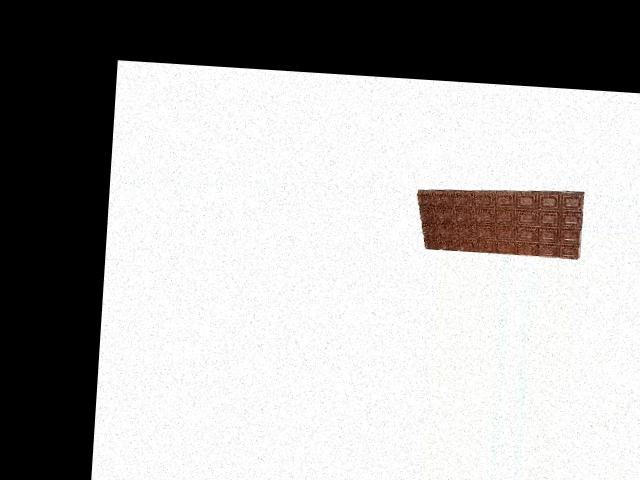chocolate: (411, 183, 586, 259)
